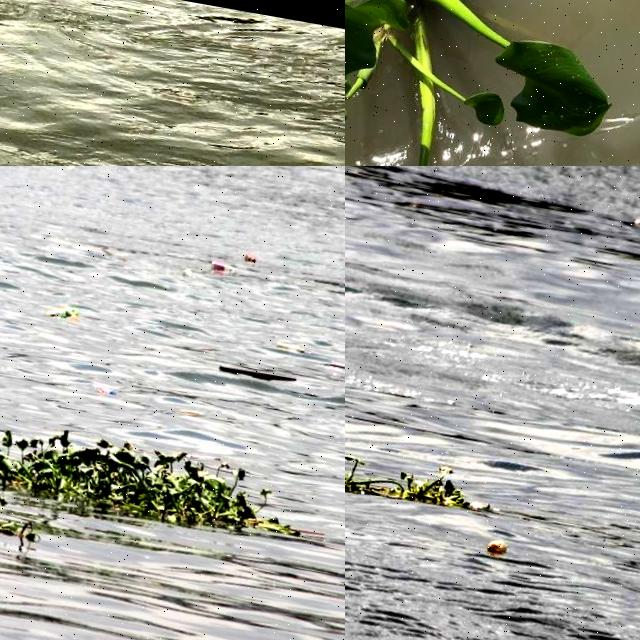water-hyacinth: (346, 1, 640, 167), (1, 412, 298, 541), (346, 423, 497, 525)
